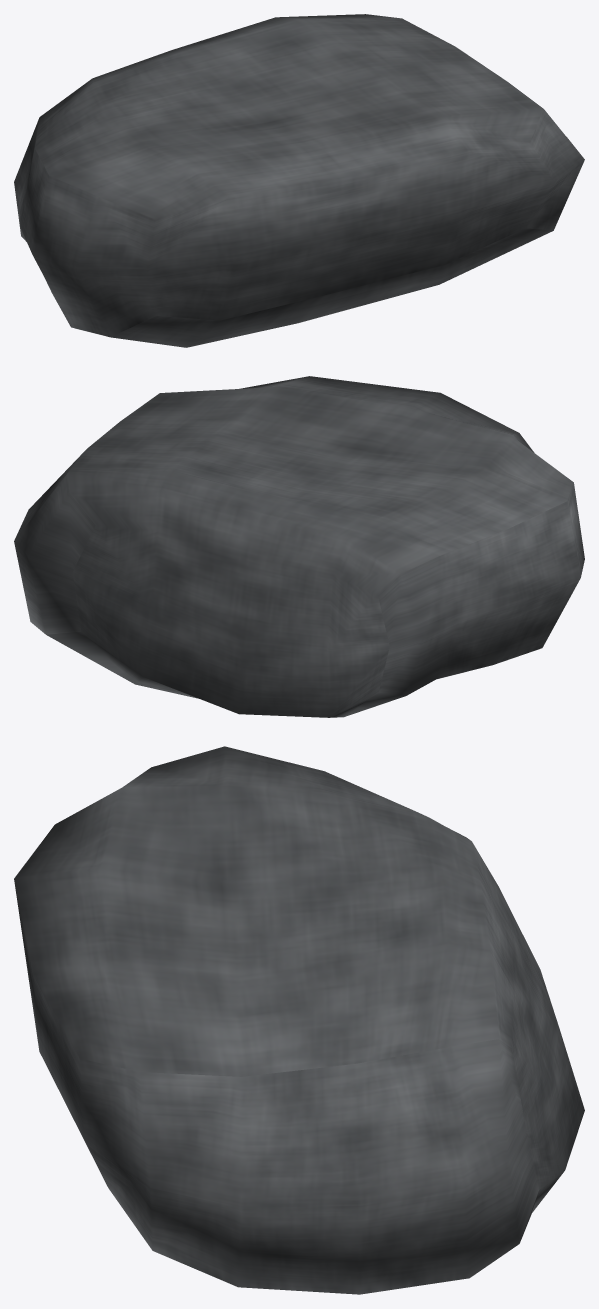
File: Steen 7.fbx
3 views of the same model, one above another, from view 1: azimuth 30°, elevation 25°; view 2: azimuth 150°, elevation 25°; view 3: azimuth 270°, elevation 25° (orthographic). The views are drawn at different scales.
Parts seen in each view (by area): view 1: pCube6; view 2: pCube6; view 3: pCube6.
Boxes of the visible parts, box(x1,y1,x2,y2) form: pCube6: box(14, 14, 584, 347); pCube6: box(14, 376, 584, 717); pCube6: box(14, 746, 584, 1294).
Size of the model in its own units: 1.41 by 0.5331 by 0.9867.
